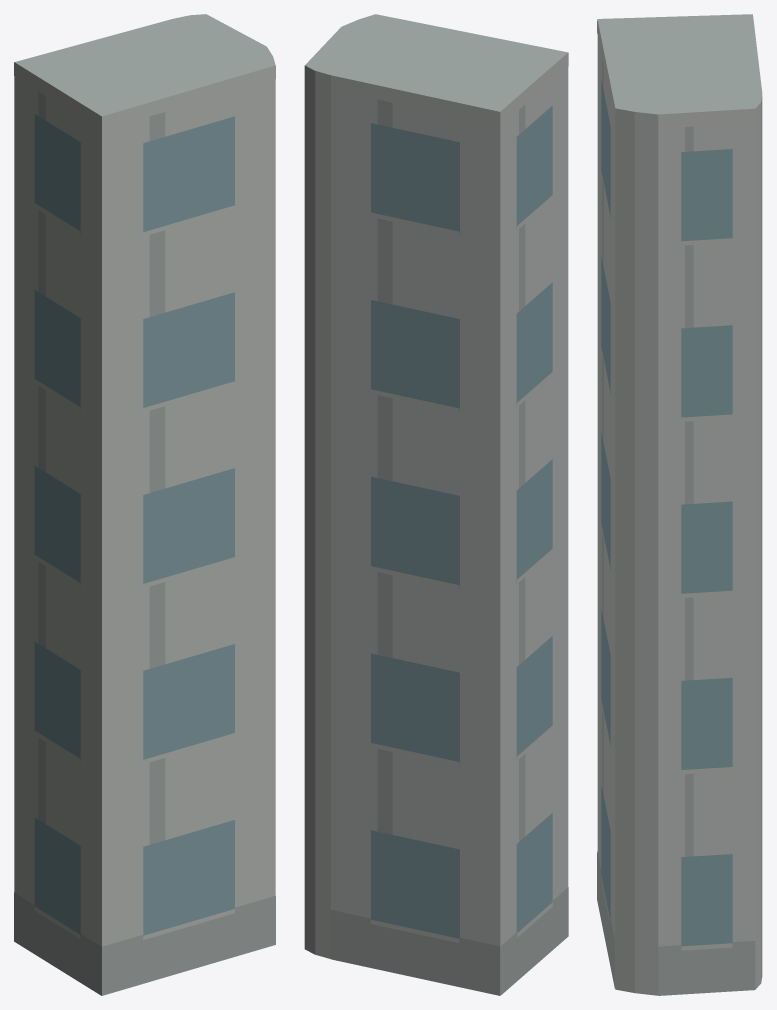
Rendered from survey-upis-32603648.glb.
3 renders of one model, left to right at view 1: azimuth 30°, elevation 25°; view 2: azimuth 150°, elevation 25°; view 3: azimuth 270°, elevation 25°, orthographic.
Parts seen in each view (by area): view 1: survey-upis-32603648.tmp; view 2: survey-upis-32603648.tmp; view 3: survey-upis-32603648.tmp.
Boxes of the visible parts, x1,y1,x2,y2 form: survey-upis-32603648.tmp: [14, 14, 275, 995]; survey-upis-32603648.tmp: [304, 14, 568, 995]; survey-upis-32603648.tmp: [597, 14, 762, 995].
Bounding box in the file's own units: 3.74 × 15.25 × 2.6.
